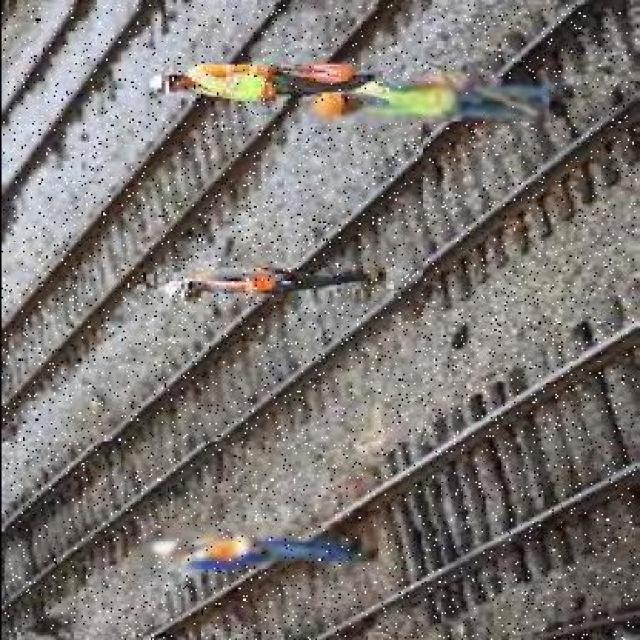rail: (5, 6, 638, 633), (1, 7, 422, 441), (121, 292, 627, 640)
